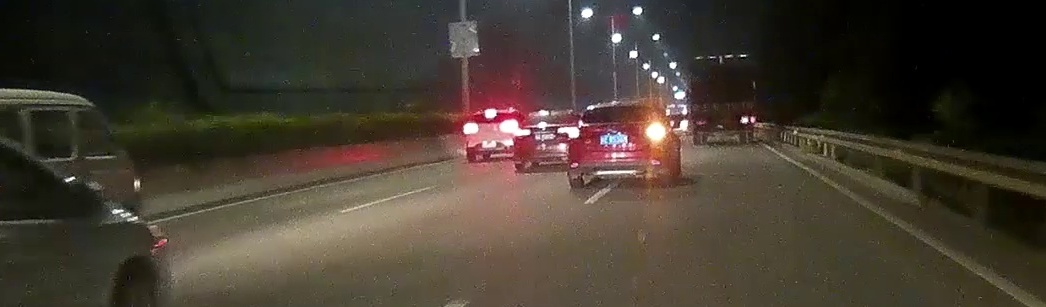L_light: (568, 126, 583, 141), (463, 123, 478, 134), (694, 120, 709, 125)
R_light: (645, 122, 666, 142), (499, 119, 518, 133), (740, 116, 756, 124)
T_light: (484, 109, 497, 119), (615, 106, 630, 108), (719, 107, 729, 109)
night-brake: (463, 109, 518, 162)
night-no: (690, 54, 757, 146)
night-right: (567, 101, 668, 190)
